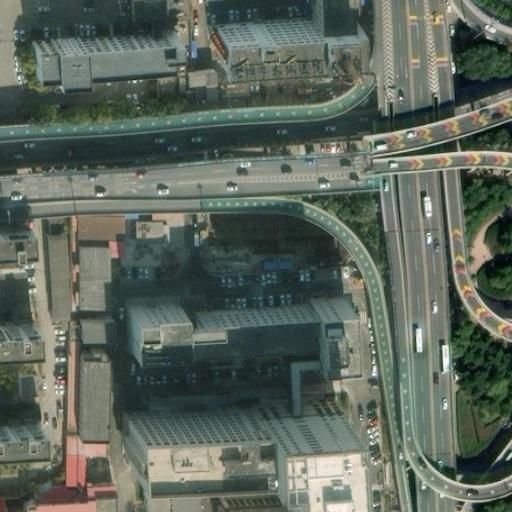building: (252, 403, 341, 512), (24, 27, 183, 82), (121, 408, 253, 467), (185, 318, 310, 367), (291, 316, 350, 406), (212, 14, 306, 61), (74, 243, 106, 356), (75, 356, 106, 440), (131, 325, 187, 370), (38, 232, 65, 317), (199, 246, 251, 272), (120, 0, 165, 30), (304, 20, 342, 55), (6, 370, 40, 400), (0, 423, 35, 449), (24, 500, 89, 512), (134, 217, 168, 239), (184, 67, 212, 84), (0, 495, 23, 512), (89, 499, 113, 512)
